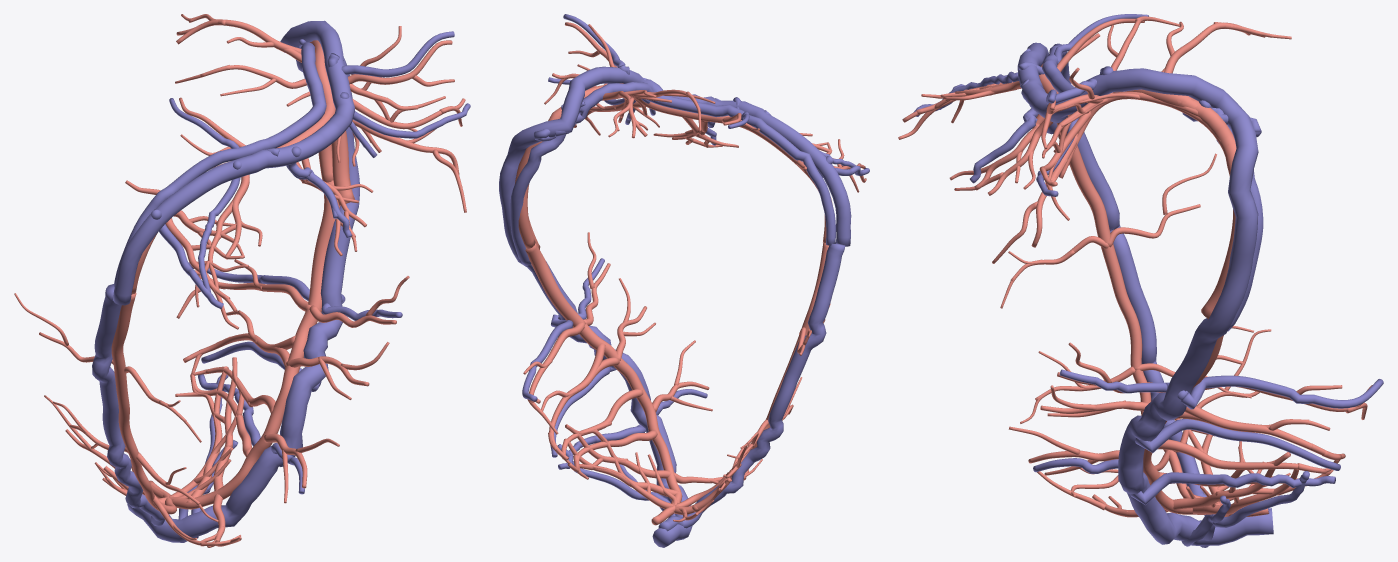
The model's file is vessels_13.glb.
The picture shows the model from 3 angles, left to right: view 1: azimuth 30°, elevation 25°; view 2: azimuth 150°, elevation 25°; view 3: azimuth 270°, elevation 25°; orthographic projection. The views are drawn at different scales.
Parts seen in each view (by area): view 1: Renderer Node; view 2: Renderer Node; view 3: Renderer Node.
Part boxes in pixels (x1,y1,x2,y2): Renderer Node: (14,14,470,547); Renderer Node: (499,14,869,547); Renderer Node: (898,14,1383,547).
Size of the model in its own units: 94.87 by 123 by 95.25.
